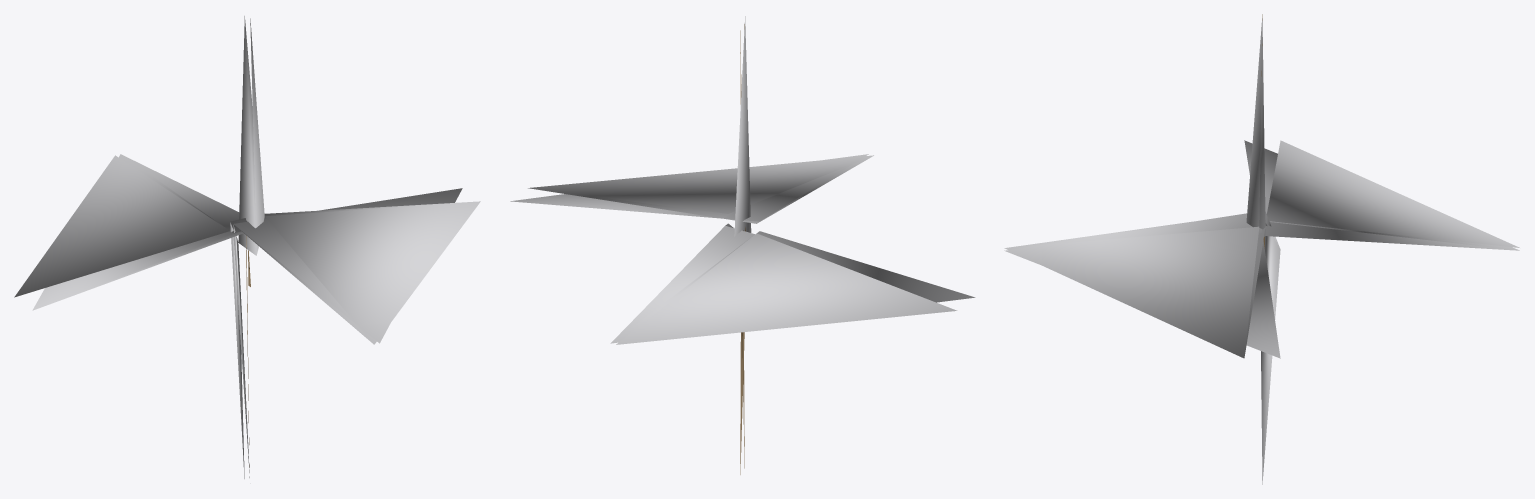
File: equip_weapon_iron_pickaxe.glb
3 views of the same model, side by side, from view 1: azimuth 30°, elevation 25°; view 2: azimuth 150°, elevation 25°; view 3: azimuth 270°, elevation 25° (orthographic).
Visible parts, largest first — view 1: equip_weapon_iron_pickaxe; view 2: equip_weapon_iron_pickaxe; view 3: equip_weapon_iron_pickaxe.
Boxes of the visible parts, box(x1,y1,x2,y2) form: equip_weapon_iron_pickaxe: box(14, 16, 480, 478); equip_weapon_iron_pickaxe: box(510, 16, 975, 474); equip_weapon_iron_pickaxe: box(1004, 14, 1519, 484).
Size of the model in its own units: 2 by 2 by 2.
